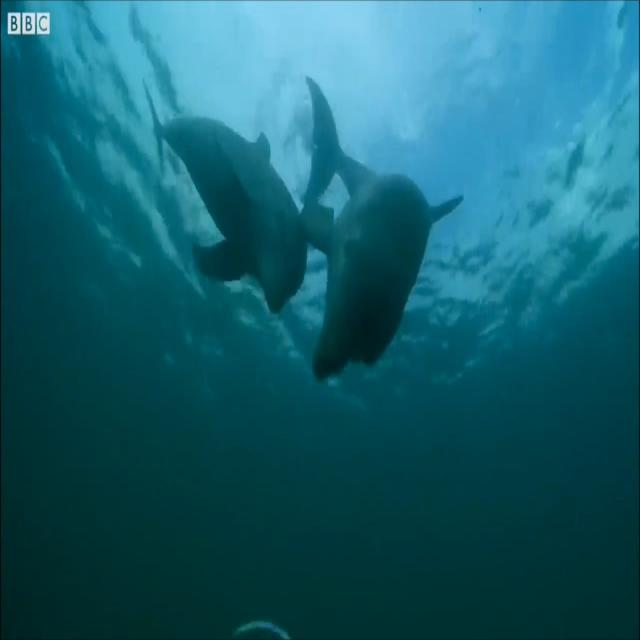Dolphin: (305, 73, 464, 382), (144, 80, 305, 315)
